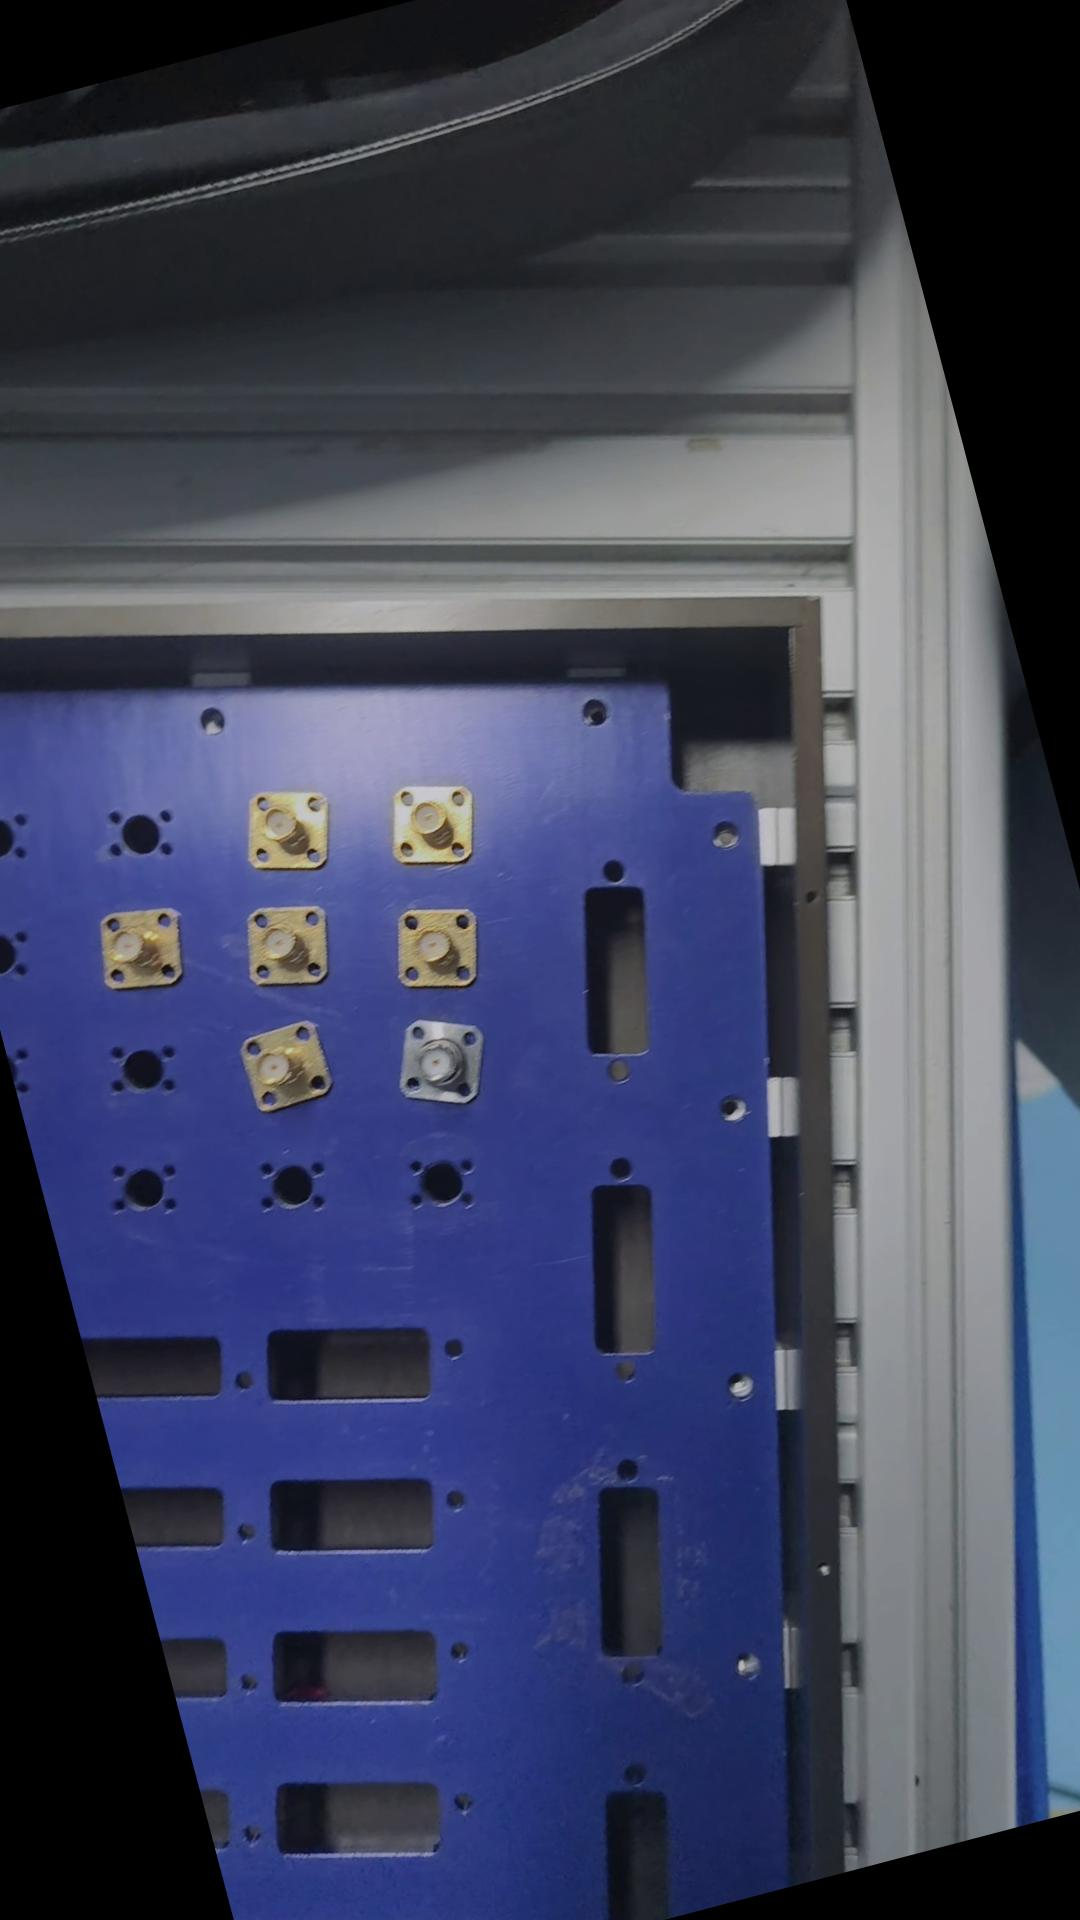SMA: (367, 769, 491, 884), (225, 1007, 340, 1126), (384, 1007, 498, 1120), (227, 890, 339, 1002), (378, 897, 495, 1004), (229, 775, 339, 886), (84, 897, 194, 1001)
